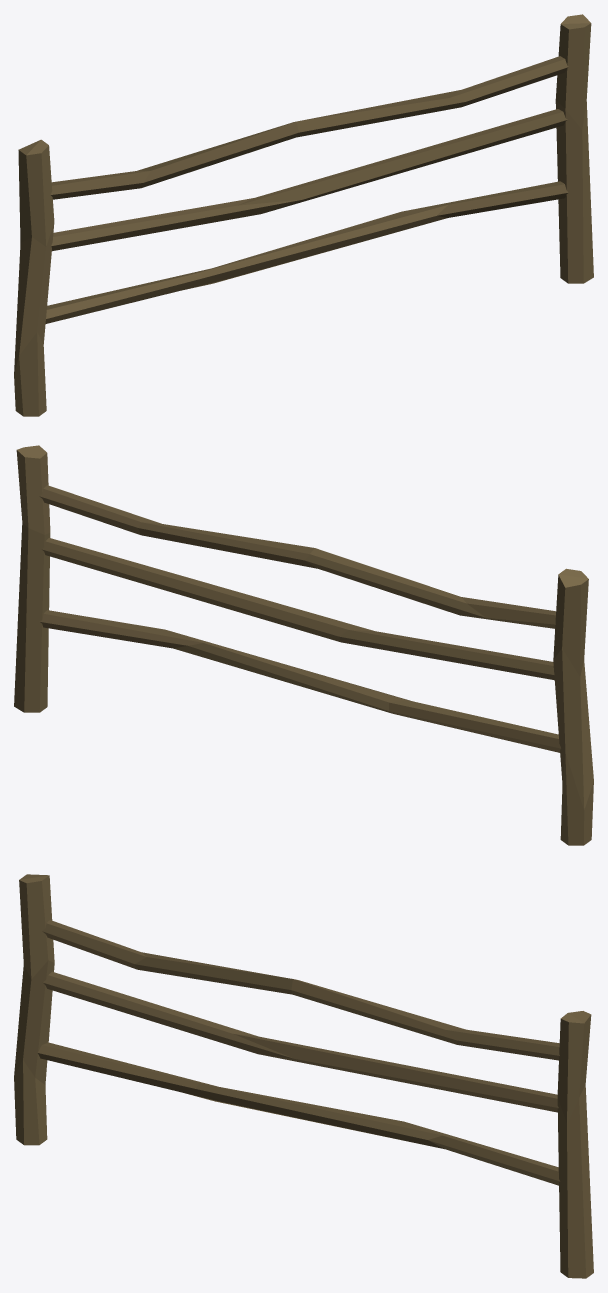
The model's file is Fence_1.fbx.
3 renders of one model, top to bottom at view 1: azimuth 30°, elevation 25°; view 2: azimuth 150°, elevation 25°; view 3: azimuth 330°, elevation 25°, orthographic.
Visible parts, largest first — view 1: Fence_1; view 2: Fence_1; view 3: Fence_1.
Boxes of the visible parts, <box> form: Fence_1: <box>14,14,593,416</box>; Fence_1: <box>14,445,593,845</box>; Fence_1: <box>14,874,593,1278</box>.
Size of the model in its own units: 243 by 107 by 11.39.
